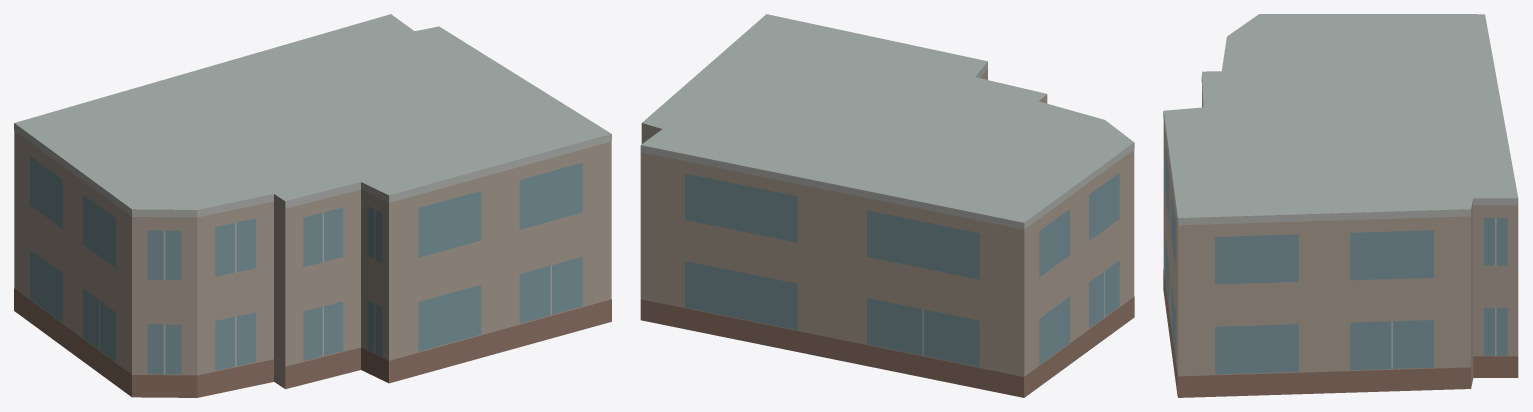
Rendered from survey-upis-32782079.glb.
3 renders of one model, left to right at view 1: azimuth 30°, elevation 25°; view 2: azimuth 150°, elevation 25°; view 3: azimuth 270°, elevation 25°, orthographic. The views are drawn at different scales.
Parts seen in each view (by area): view 1: survey-upis-32782079.tmp; view 2: survey-upis-32782079.tmp; view 3: survey-upis-32782079.tmp.
Boxes of the visible parts, bbox=[...] form: survey-upis-32782079.tmp: bbox=[14, 14, 611, 397]; survey-upis-32782079.tmp: bbox=[640, 14, 1134, 397]; survey-upis-32782079.tmp: bbox=[1163, 14, 1518, 397].
Bounding box in the file's own units: 14.87 × 6.1 × 10.92.
